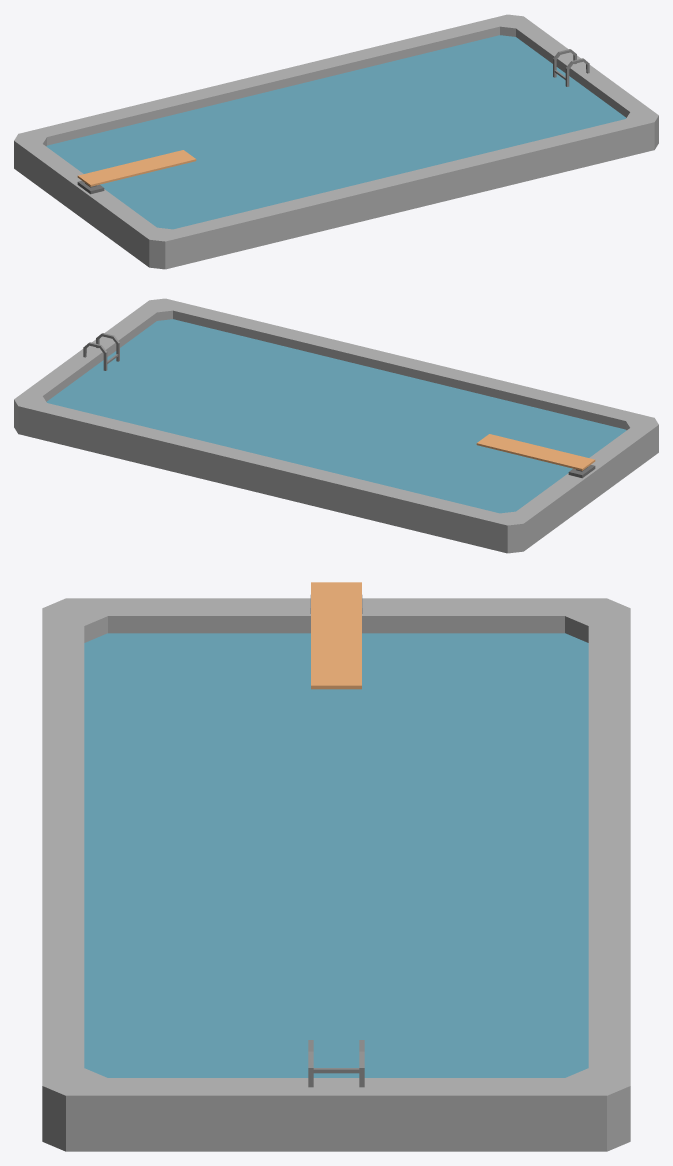
File: Pool_03.fbx
3 renders of one model, top to bottom at view 1: azimuth 30°, elevation 25°; view 2: azimuth 150°, elevation 25°; view 3: azimuth 270°, elevation 25°, orthographic. The views are drawn at different scales.
Visible parts, largest first — view 1: Pool_03; view 2: Pool_03; view 3: Pool_03.
Part boxes in pixels (x1,y1,x2,y2): Pool_03: (14, 14, 658, 269); Pool_03: (14, 298, 658, 553); Pool_03: (42, 582, 630, 1151).
Size of the model in its own units: 867 by 70.21 by 433.
